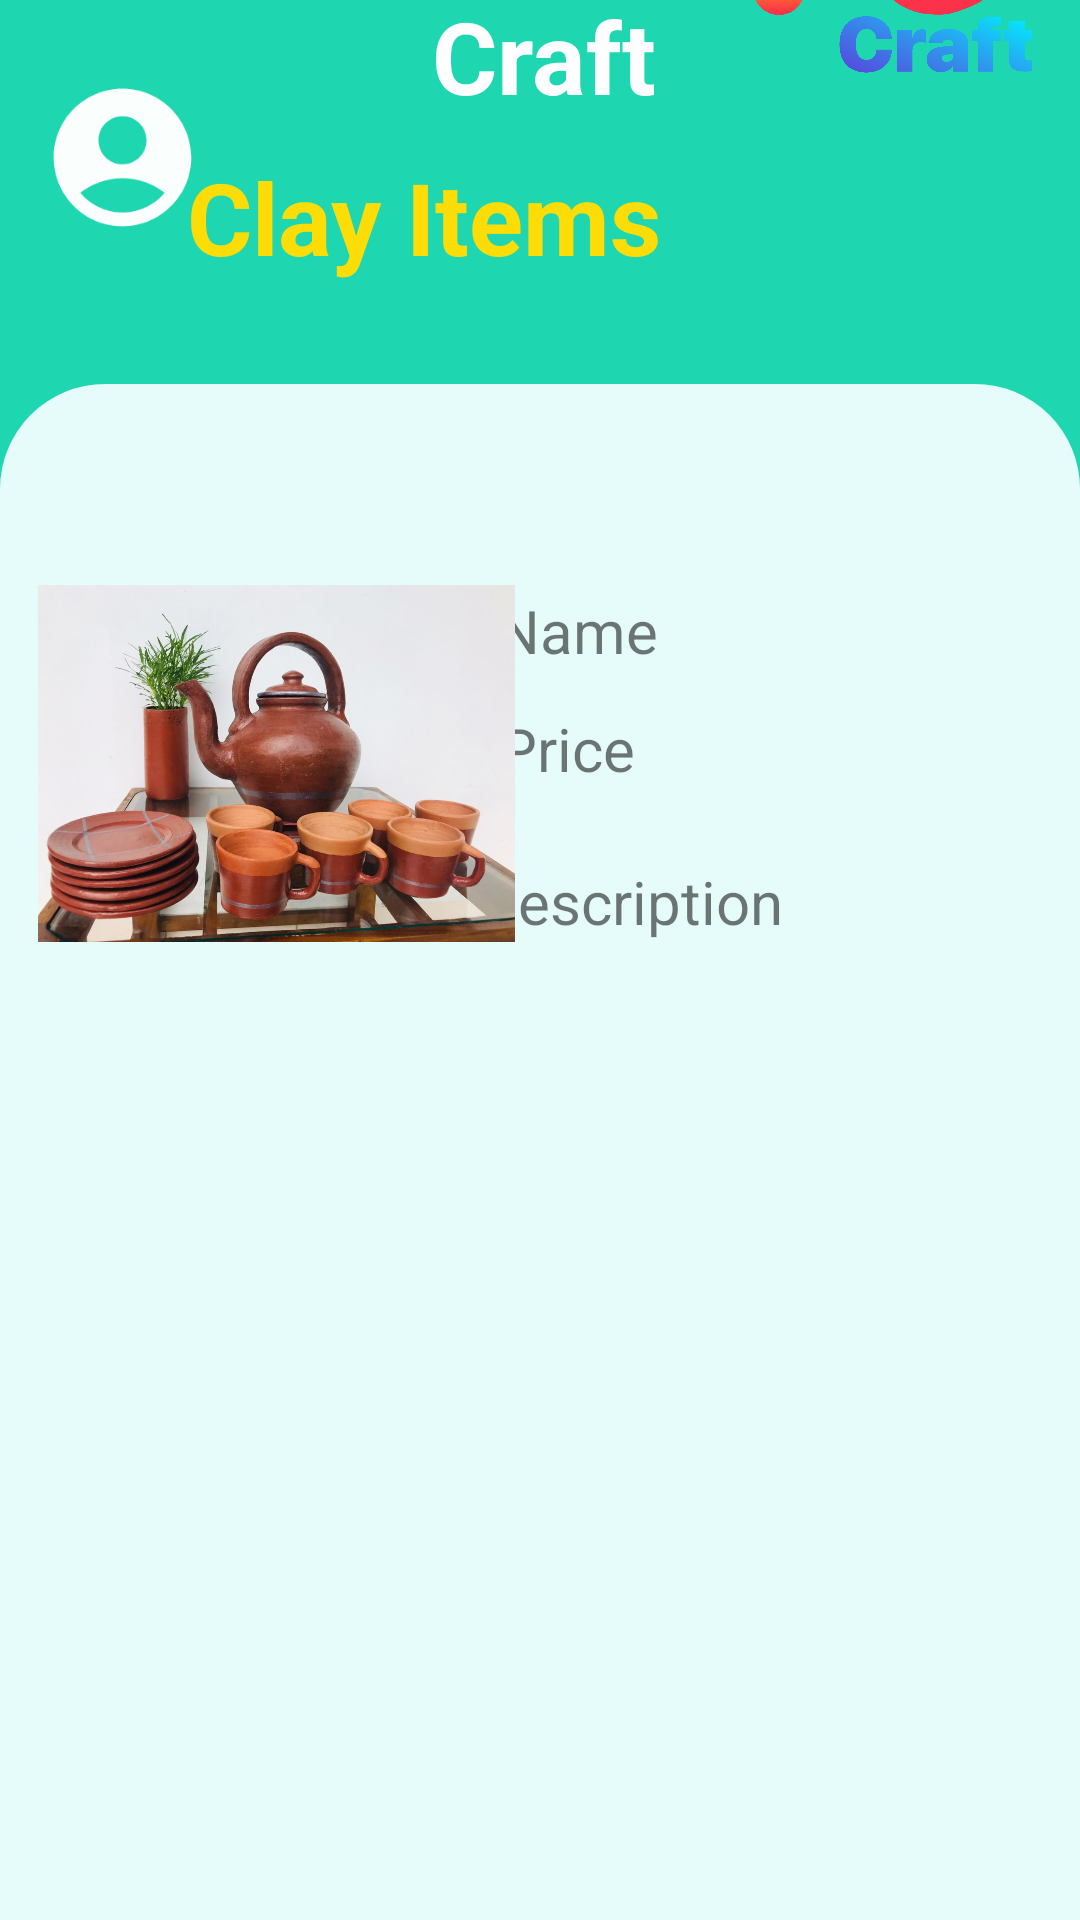

Where icons sit on this 1080*1920 app screen, as (x1,y1,x2,y2):
user profile: (53,88,192,227)
